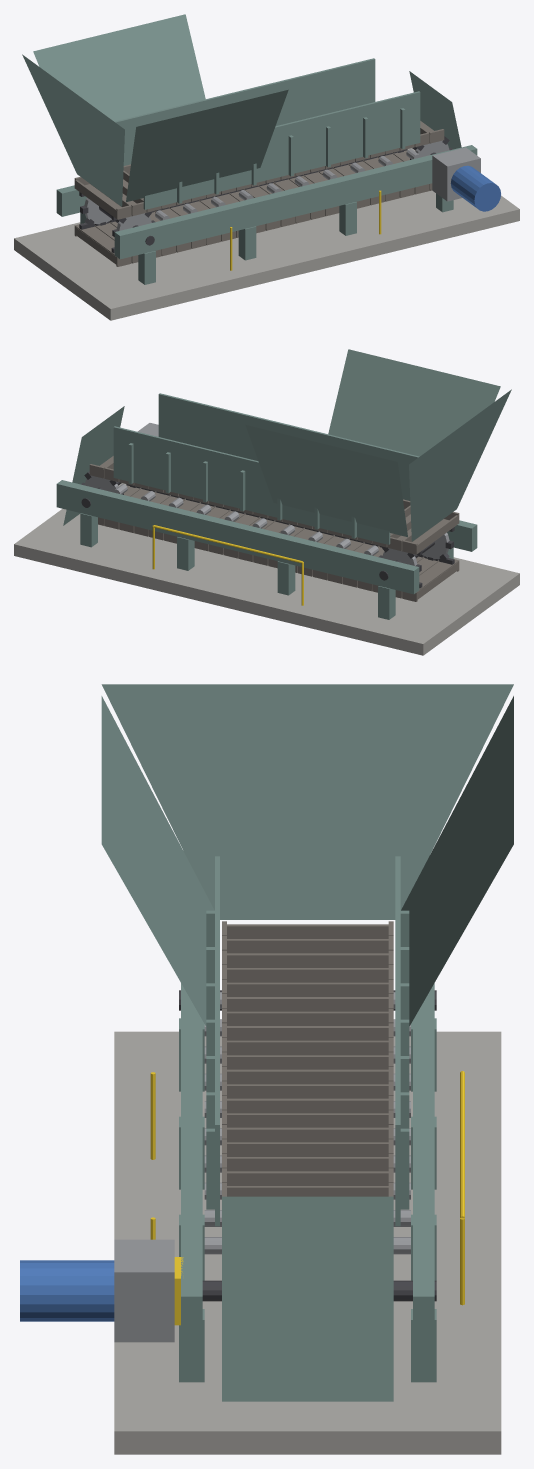
The model's file is MC_ApronFeeder.glb.
3 views of the same model, one above another, from view 1: azimuth 30°, elevation 25°; view 2: azimuth 150°, elevation 25°; view 3: azimuth 270°, elevation 25° (orthographic). The views are drawn at different scales.
Parts seen in each view (by area): view 1: AF_Frame, AF_Pans_Bottom, AF_Pans_Top, AF_Sprocket_Tail, AF_Sprocket_Head; view 2: AF_Frame, AF_Pans_Bottom, AF_Pans_Top, AF_Sprocket_Tail, AF_Sprocket_Head; view 3: AF_Frame, AF_Pans_Top, AF_Sprocket_Head.
Part boxes in pixels (box(x1,y1,x2,y2)): AF_Frame: box(14, 14, 519, 320); AF_Pans_Bottom: box(74, 149, 432, 266); AF_Pans_Top: box(74, 121, 444, 220); AF_Sprocket_Tail: box(80, 197, 155, 245); AF_Sprocket_Head: box(398, 136, 452, 159); AF_Frame: box(14, 349, 519, 655); AF_Pans_Bottom: box(98, 484, 459, 601); AF_Pans_Top: box(89, 456, 459, 555); AF_Sprocket_Tail: box(378, 532, 453, 580); AF_Sprocket_Head: box(81, 471, 135, 507); AF_Frame: box(20, 684, 513, 1454); AF_Pans_Top: box(222, 921, 393, 1196); AF_Sprocket_Head: box(202, 1280, 436, 1301).
Bounding box in the file's own units: 11 × 4.9 × 5.75.
